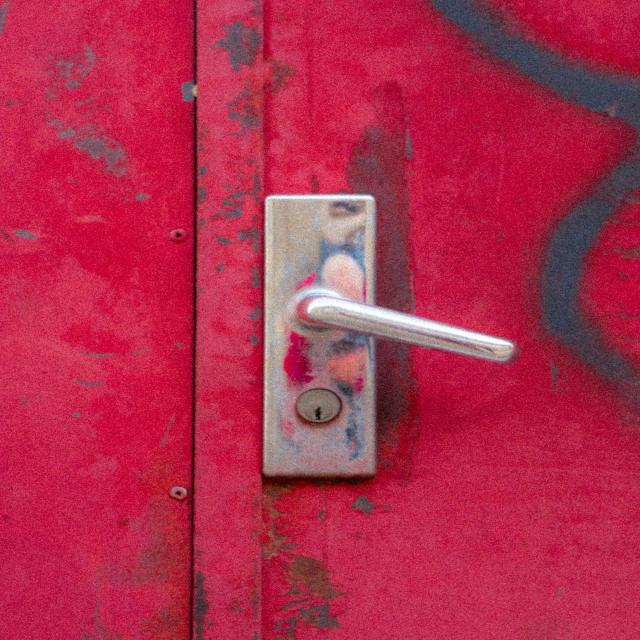door-handle: (285, 288, 521, 364)
